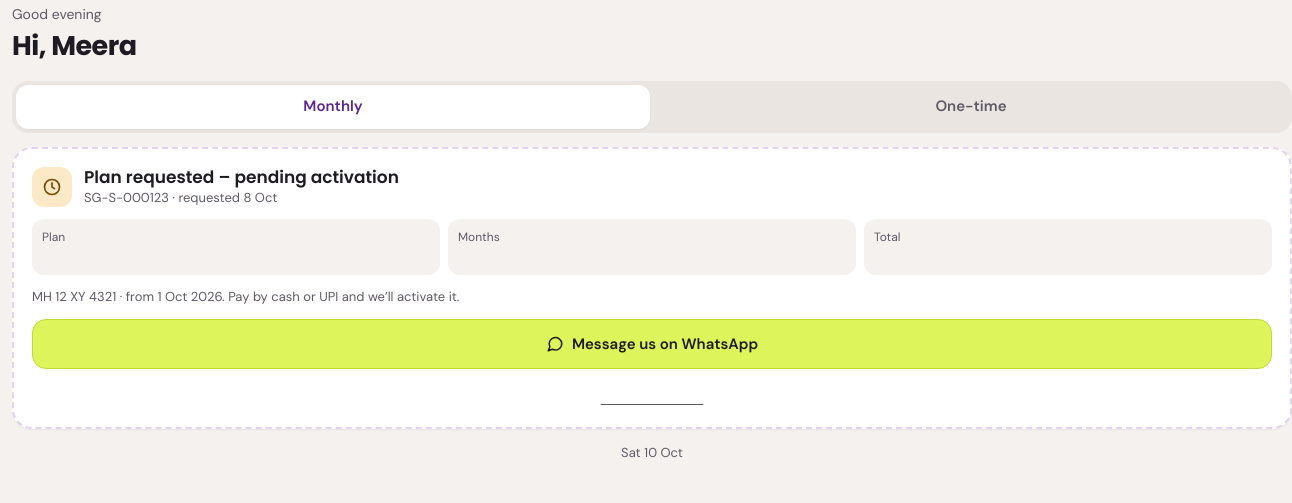
Scenario: customer dashboard › pending only opens on Monthly with the request card, WhatsApp and an in-page cancel
Expected: the heading "Plan requested – pending activation" is shown, [84,164,399,188]
Expected: the text "SG-S-000123 · requested 8 Oct" is shown, [84,189,277,206]
Click the button "Cancel request": (652, 395) [601,381,703,409]
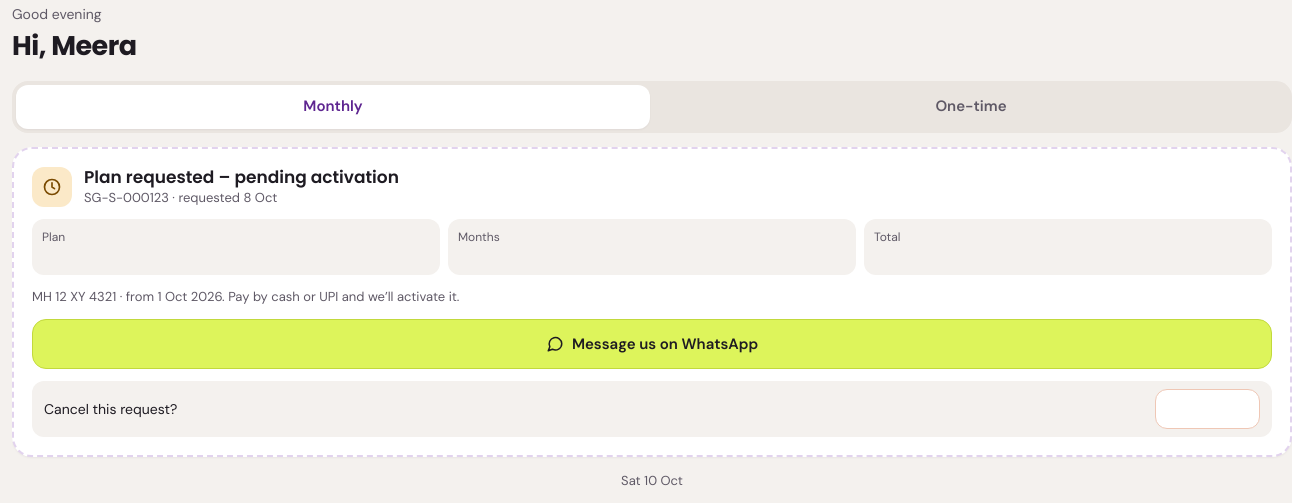
Expected: the text "Cancel this request?" is shown, [44,399,177,419]
